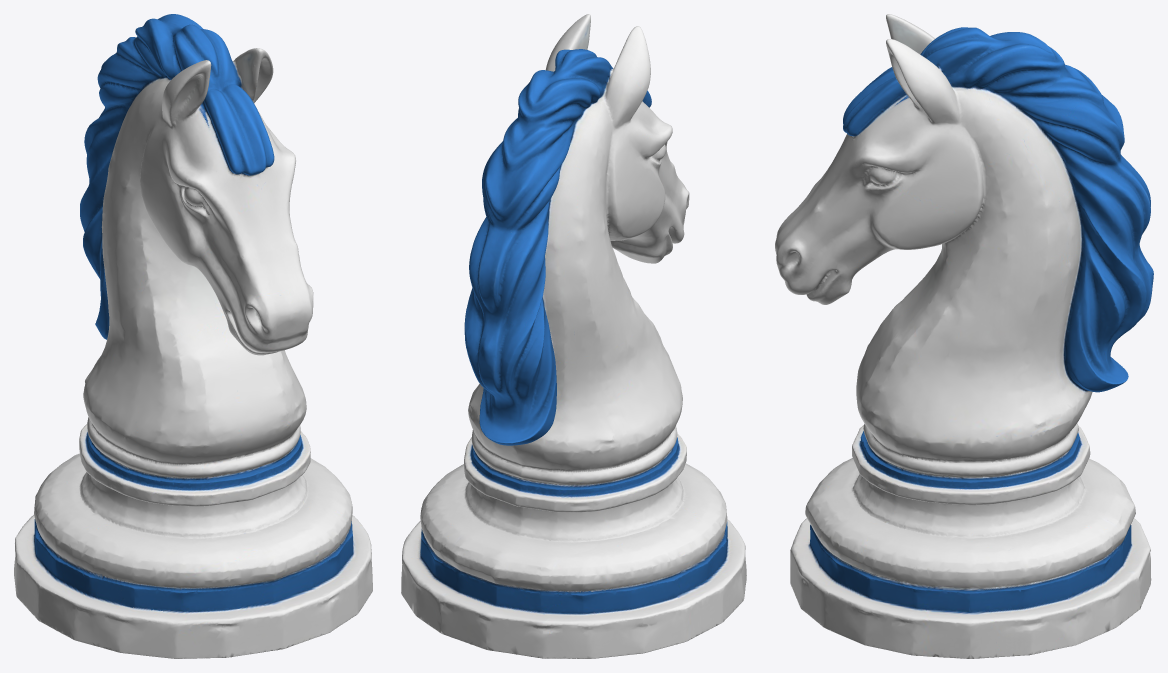
The model's file is knight.glb.
The picture shows the model from 3 angles, left to right: view 1: azimuth 30°, elevation 25°; view 2: azimuth 150°, elevation 25°; view 3: azimuth 270°, elevation 25°; orthographic projection. The views are drawn at different scales.
Size of the model in its own units: 1.1 by 1.9 by 1.17.
1 material, 1 textured.
